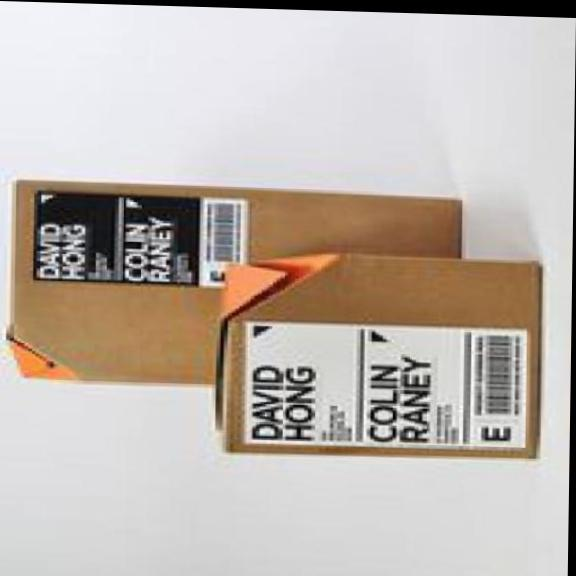Kertas: (14, 186, 457, 387), (224, 268, 532, 459)
